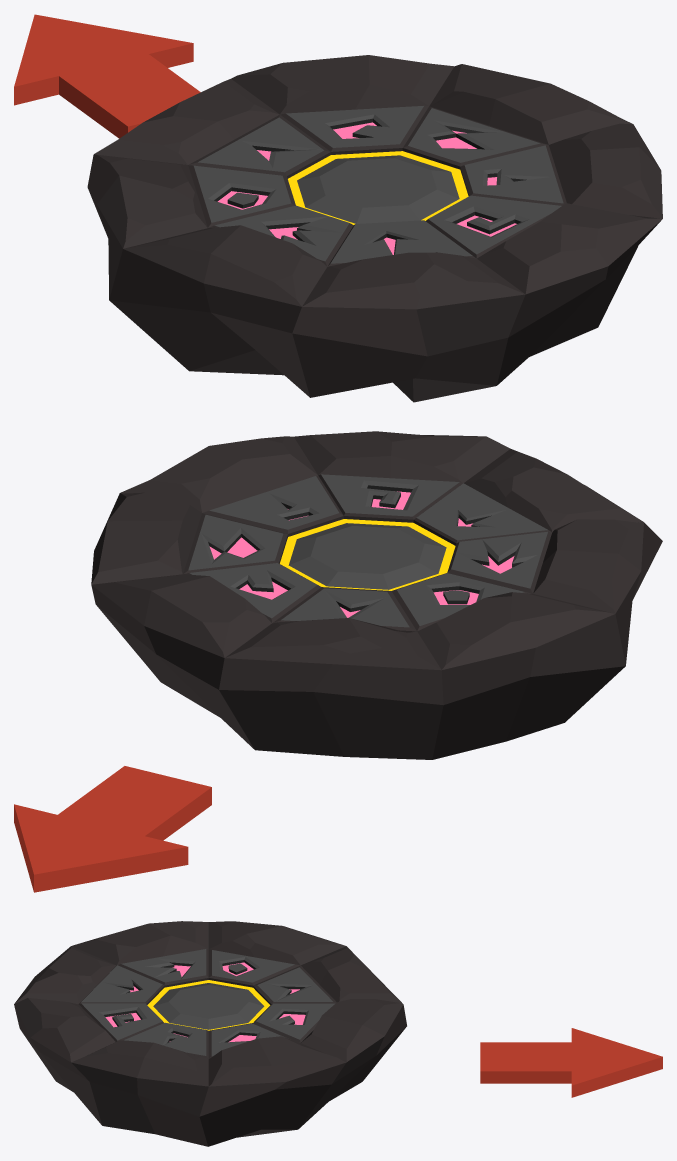
Rendered from Horizontal_Platform_Fantasy_Alt.glb.
The picture shows the model from 3 angles, top to bottom: view 1: azimuth 30°, elevation 25°; view 2: azimuth 150°, elevation 25°; view 3: azimuth 270°, elevation 25°; orthographic projection. The views are drawn at different scales.
Parts seen in each view (by area): view 1: Fantasy_Platform_02, Plane.002; view 2: Fantasy_Platform_02, Plane.002; view 3: Fantasy_Platform_02, Plane.002.
Boxes of the visible parts, bbox=[...] form: Fantasy_Platform_02: bbox=[87, 55, 662, 402]; Plane.002: bbox=[14, 14, 200, 138]; Fantasy_Platform_02: bbox=[91, 431, 662, 759]; Plane.002: bbox=[14, 766, 211, 892]; Fantasy_Platform_02: bbox=[14, 921, 406, 1146]; Plane.002: bbox=[480, 1028, 662, 1097].
Size of the model in its own units: 2.07 by 0.7766 by 3.28.
Materials: 2 (2 with a texture image).
